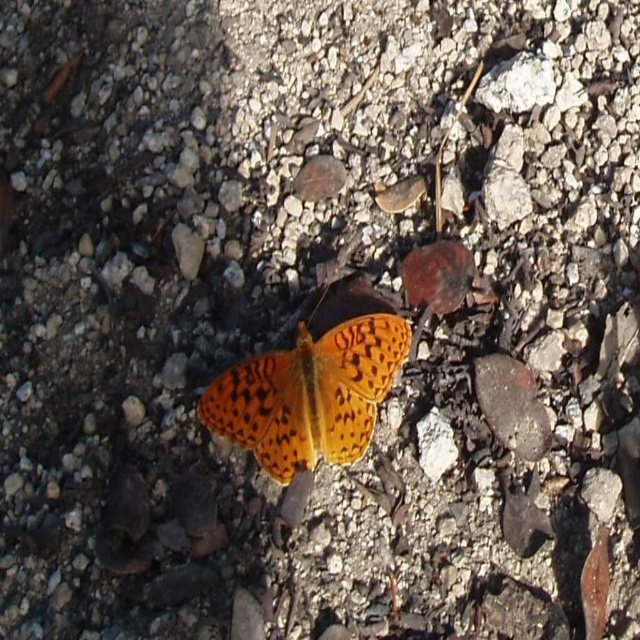Butterfly: (199, 277, 419, 484)
